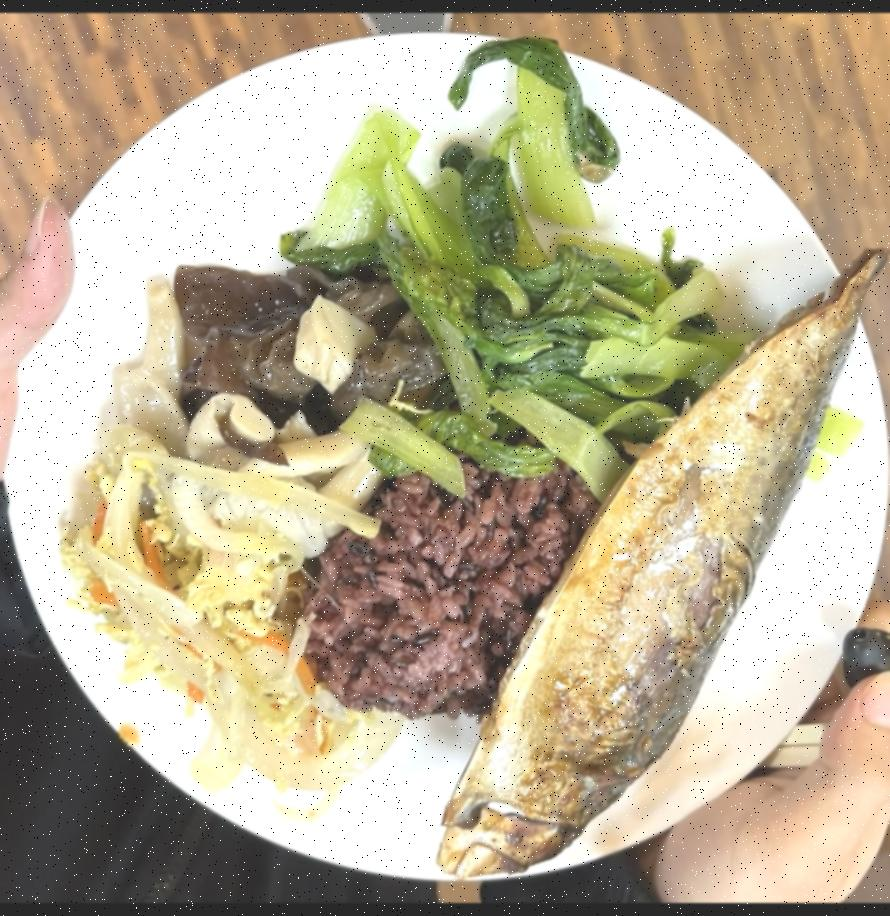grilled mackerel: (431, 242, 886, 883)
plate: (1, 23, 890, 896)
purple rice: (291, 470, 597, 718)
side dish: (311, 44, 696, 465), (64, 430, 395, 792), (130, 262, 426, 430)
